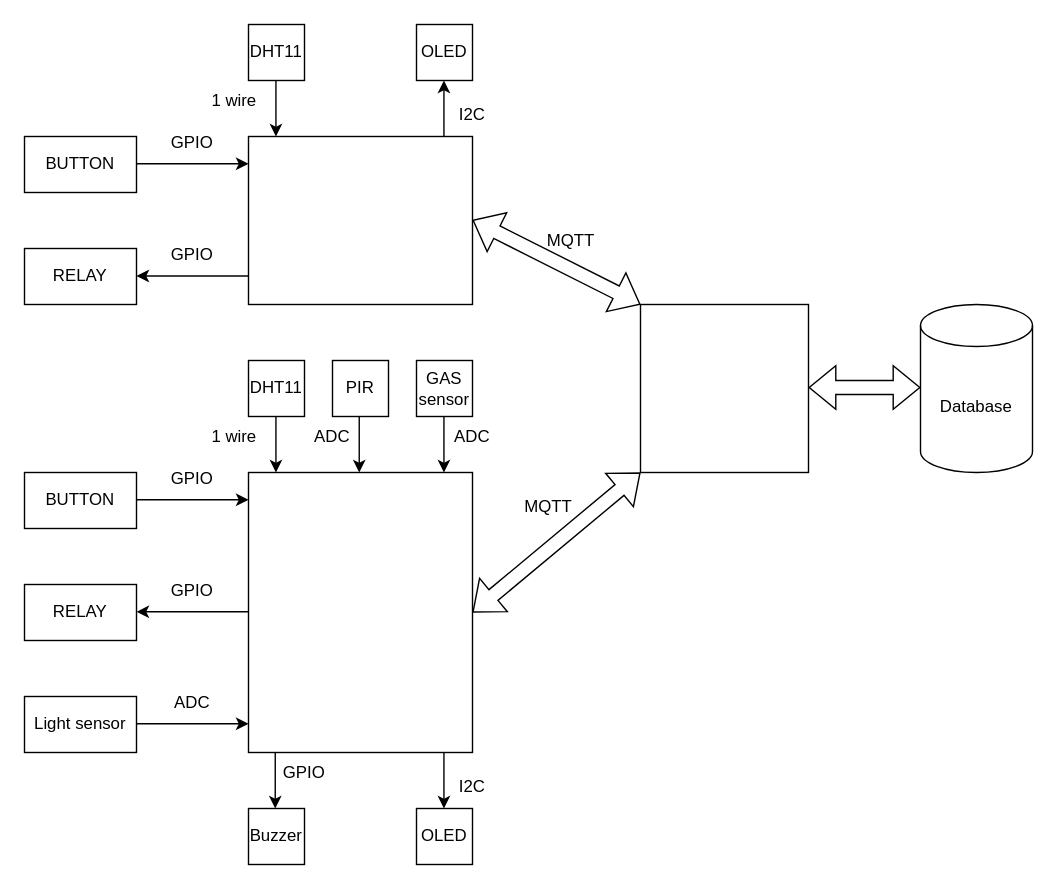
The diagram is 1057 pixels wide and 889 high, and some of its shapes have lost their labels. Each missing label, with the box of its shape:
ESP32: (247, 471, 472, 752)
ESP8266: (247, 135, 472, 304)
Webserver: (639, 303, 808, 472)
